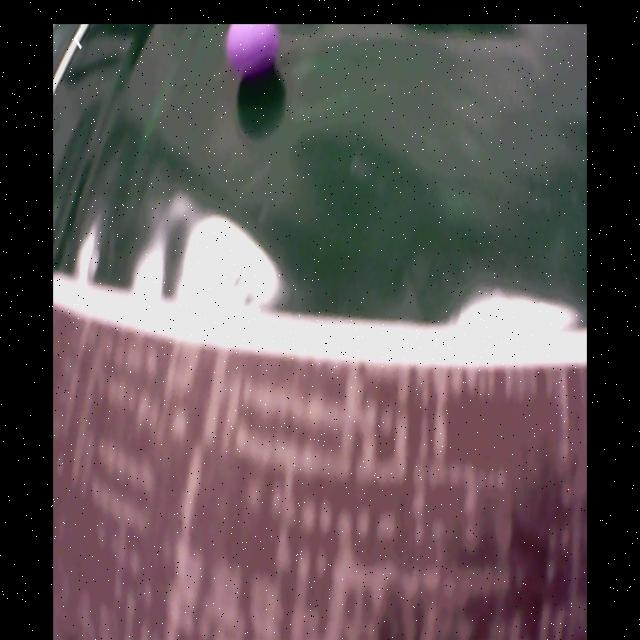ball: (225, 25, 282, 82)
